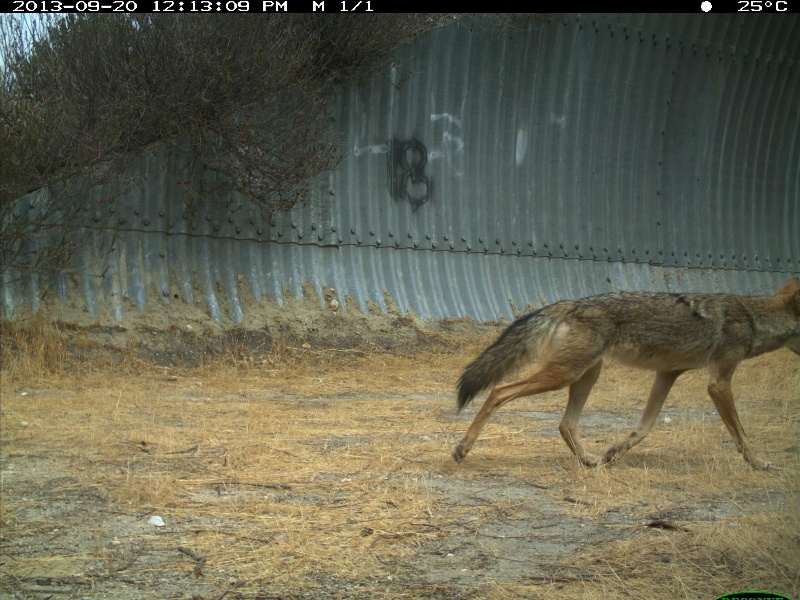coyote: (446, 280, 800, 469)
